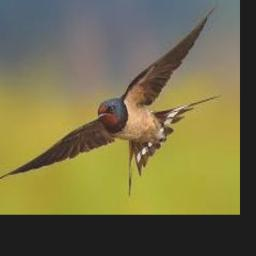Swallow: (0, 3, 221, 195)
